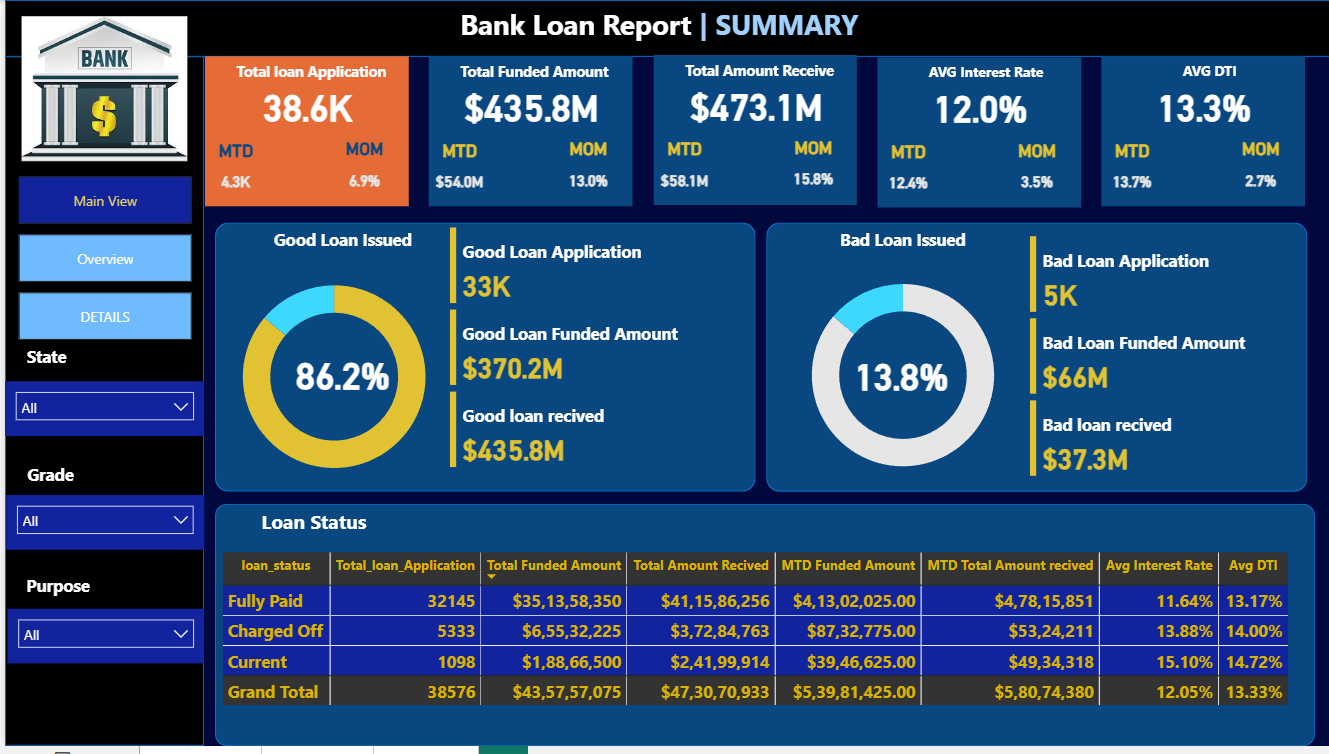

The dashboard page shown, as its layout file describes it:
{"tool":"powerbi","page":{"name":"Main View","canvas":[1280,720],"ordinal":0},"visuals":[{"type":"shape","box":[0,0,1280.3,54.9],"z":0},{"type":"shape","box":[625.8,53.6,196.3,145.1],"z":0,"group":"g3"},{"type":"shape","box":[192.6,54.2,196.7,145.1],"z":0,"group":"g1"},{"type":"shape","box":[409.2,54.2,196.7,145.1],"z":0,"group":"g2"},{"type":"shape","box":[1058.3,54.9,196.7,145.1],"z":0,"group":"g5"},{"type":"shape","box":[842.1,56.1,196.7,145.1],"z":0,"group":"g4"},{"type":"shape","box":[0,54.9,192.1,665.5],"z":1000},{"type":"card","fields":{"Values":["AMeasures.Total Amount Recived"]},"box":[640.7,69.9,169.2,63.7],"z":1000,"group":"g3"},{"type":"card","fields":{"Values":["AMeasures.Total_loan_Application"]},"box":[207.5,70.5,169.5,63.7],"z":1000,"group":"g1"},{"type":"card","fields":{"Values":["AMeasures.Total Funded Amount"]},"box":[424.1,70.5,169.5,63.7],"z":1000,"group":"g2"},{"type":"card","fields":{"Values":["AMeasures.Avg DTI"]},"box":[1073.2,71.2,169.5,63.7],"z":1000,"group":"g5"},{"type":"card","fields":{"Values":["AMeasures.Avg Interest Rate"]},"box":[857,72.4,169.5,63.7],"z":1000,"group":"g4"},{"type":"textbox","box":[651.5,53.6,158.4,32.5],"z":2000,"group":"g3"},{"type":"textbox","box":[218.4,54.2,158.7,32.5],"z":2000,"group":"g1"},{"type":"textbox","box":[435,54.2,158.7,32.5],"z":2000,"group":"g2"},{"type":"textbox","box":[1084.1,54.9,158.7,32.5],"z":2000,"group":"g5"},{"type":"textbox","box":[867.9,56.1,158.7,32.5],"z":2000,"group":"g4"},{"type":"shape","box":[735.2,214.3,522.3,259.7],"z":2000},{"type":"card","title":"MTD","fields":{"Values":["AMeasures.MTD Total Amount recived"]},"box":[625.8,135,59.6,63.7],"z":3000,"group":"g3"},{"type":"card","title":"MTD","fields":{"Values":["AMeasures.MTD Loan Application"]},"box":[192.6,135.6,59.7,63.7],"z":3000,"group":"g1"},{"type":"card","title":"MTD","fields":{"Values":["AMeasures.MTD Funded Amount"]},"box":[409.2,135.6,59.7,63.7],"z":3000,"group":"g2"},{"type":"card","title":"MTD","fields":{"Values":["AMeasures.MTD Avg DTI"]},"box":[1058.3,136.3,59.7,63.7],"z":3000,"group":"g5"},{"type":"card","title":"MTD","fields":{"Values":["AMeasures.MTD Avg Int Rate"]},"box":[842.1,137.5,59.7,63.7],"z":3000,"group":"g4"},{"type":"card","fields":{"Values":["AMeasures.Bad Loan %"]},"box":[780.7,329.3,168.9,63.9],"z":3000},{"type":"card","title":"MOM","fields":{"Values":["AMeasures.MOM Total Amount recived"]},"box":[750.4,133.6,59.6,63.7],"z":4000,"group":"g3"},{"type":"card","title":"MOM","fields":{"Values":["AMeasures.MOM Loan Application"]},"box":[317.4,134.2,59.7,63.7],"z":4000,"group":"g1"},{"type":"card","title":"MOM","fields":{"Values":["AMeasures.MOM Total Funded Amount"]},"box":[534,134.2,59.7,63.7],"z":4000,"group":"g2"},{"type":"card","title":"MOM","fields":{"Values":["AMeasures.MOM Avg DTI"]},"box":[1183.1,134.9,59.7,63.7],"z":4000,"group":"g5"},{"type":"card","title":"MOM","fields":{"Values":["AMeasures.MOM Avg int Rate"]},"box":[966.9,136.1,59.7,63.7],"z":4000,"group":"g4"},{"type":"shape","box":[202.4,214.6,521.9,259.7],"z":4000},{"type":"textbox","box":[228.5,214.3,195.9,32.6],"z":5000},{"type":"card","fields":{"Values":["AMeasures.Good Loan %"]},"box":[241.4,328,169.5,64.6],"z":6000},{"type":"donutChart","fields":{"Category":["Bank loan.GOOD VS BAD LOAB"],"Y":["AMeasures.Total_loan_Application"]},"box":[193,248.5,249.7,230.4],"z":7000},{"type":"textbox","box":[434,0,412.3,67.8],"z":8000},{"type":"group","id":"g1","title":"Group 1","box":[192.6,54.2,196.7,145.1],"z":9000},{"type":"group","id":"g2","title":"Group 1","box":[409.2,54.2,196.7,145.1],"z":10000},{"type":"group","id":"g3","title":"Group 1","box":[625.8,53.6,196.3,145.1],"z":11000},{"type":"group","id":"g4","title":"Group 1","box":[842.1,56.1,196.3,145.1],"z":12000},{"type":"group","id":"g5","title":"Group 1","box":[1058.3,54.9,196.3,145.1],"z":13000},{"type":"cardVisual","fields":{"Data":["AMeasures.Good Loan Application","AMeasures.Good Loan Funded Amount","AMeasures.Good loan recived"]},"box":[424.7,214.7,290.8,243.7],"z":14000},{"type":"donutChart","fields":{"Category":["Bank loan.GOOD VS BAD LOAB"],"Y":["AMeasures.Total_loan_Application"]},"box":[742.3,247,249.8,229.9],"z":15000},{"type":"textbox","box":[748,214.3,237,32.6],"z":16000},{"type":"cardVisual","fields":{"Data":["AMeasures.Bad Loan Application","AMeasures.Bad Loan Funded Amount","AMeasures.Bad loan recived"]},"box":[984.5,223.2,290.8,243.7],"z":17000},{"type":"shape","box":[202.7,486.2,1061.7,234],"z":18000},{"type":"tableEx","fields":{"Values":["Bank loan.loan_status","AMeasures.Total_loan_Application","AMeasures.Total Funded Amount","AMeasures.Total Amount Recived","AMeasures.MTD Funded Amount","AMeasures.MTD Total Amount recived","AMeasures.Avg Interest Rate","AMeasures.Avg DTI"]},"box":[203.4,528,1048.7,172.7],"z":19000},{"type":"textbox","box":[203.4,486.4,188.7,41.7],"z":20000},{"type":"slicer","fields":{"Values":["Bank loan.address_state"]},"box":[0,367.5,192.3,52.7],"z":21000},{"type":"textbox","box":[1.2,328.3,73.5,36.8],"z":22000},{"type":"slicer","fields":{"Values":["Bank loan.grade"]},"box":[1.2,477.8,191.1,52.7],"z":23000},{"type":"textbox","box":[1.2,441,80.9,36.8],"z":24000},{"type":"slicer","fields":{"Values":["Bank loan.purpose"]},"box":[2.5,588.1,189.9,52.7],"z":25000},{"type":"textbox","box":[2.5,548.9,93.1,39.2],"z":26000},{"type":"image","box":[0,11.4,191.4,150],"z":27000},{"type":"pageNavigator","box":[12.9,170,167.1,160],"z":28000}]}

Visuals, with their boxes in screenshot pixels (x1, y1, x2, y2), scaled from the page's 1280x720 canvas onto the 1329x754 screenshot:
shape: box(0, 0, 1328, 57)
shape: box(650, 56, 854, 208)
shape: box(200, 57, 404, 209)
shape: box(425, 57, 629, 209)
shape: box(1099, 57, 1303, 209)
shape: box(874, 59, 1079, 211)
shape: box(0, 57, 199, 753)
card - AMeasures.Total Amount Recived: box(665, 73, 841, 140)
card - AMeasures.Total_loan_Application: box(215, 74, 391, 141)
card - AMeasures.Total Funded Amount: box(440, 74, 616, 141)
card - AMeasures.Avg DTI: box(1114, 75, 1290, 141)
card - AMeasures.Avg Interest Rate: box(890, 76, 1066, 143)
textbox: box(676, 56, 841, 90)
textbox: box(227, 57, 392, 91)
textbox: box(452, 57, 616, 91)
textbox: box(1126, 57, 1290, 92)
textbox: box(901, 59, 1066, 93)
shape: box(763, 224, 1306, 496)
"MTD" card: box(650, 141, 712, 208)
"MTD" card: box(200, 142, 262, 209)
"MTD" card: box(425, 142, 487, 209)
"MTD" card: box(1099, 143, 1161, 209)
"MTD" card: box(874, 144, 936, 211)
card - AMeasures.Bad Loan %: box(811, 345, 986, 412)
"MOM" card: box(779, 140, 841, 207)
"MOM" card: box(330, 141, 392, 207)
"MOM" card: box(554, 141, 616, 207)
"MOM" card: box(1228, 141, 1290, 208)
"MOM" card: box(1004, 143, 1066, 209)
shape: box(210, 225, 752, 497)
textbox: box(237, 224, 441, 259)
card - AMeasures.Good Loan %: box(251, 343, 427, 411)
donutChart - Bank loan.GOOD VS BAD LOAB x AMeasures.Total_loan_Application: box(200, 260, 460, 502)
textbox: box(451, 0, 879, 71)
"Group 1" group: box(200, 57, 404, 209)
"Group 1" group: box(425, 57, 629, 209)
"Group 1" group: box(650, 56, 854, 208)
"Group 1" group: box(874, 59, 1078, 211)
"Group 1" group: box(1099, 57, 1303, 209)
cardVisual - AMeasures.Good Loan Application x AMeasures.Good Loan Funded Amount: box(441, 225, 743, 480)
donutChart - Bank loan.GOOD VS BAD LOAB x AMeasures.Total_loan_Application: box(771, 259, 1030, 499)
textbox: box(777, 224, 1023, 259)
cardVisual - AMeasures.Bad Loan Application x AMeasures.Bad Loan Funded Amount: box(1022, 234, 1324, 489)
shape: box(210, 509, 1313, 753)
tableEx - Bank loan.loan_status x AMeasures.Total_loan_Application: box(211, 553, 1300, 734)
textbox: box(211, 509, 407, 553)
slicer - Bank loan.address_state: box(0, 385, 200, 440)
textbox: box(1, 344, 78, 382)
slicer - Bank loan.grade: box(1, 500, 200, 556)
textbox: box(1, 462, 85, 500)
slicer - Bank loan.purpose: box(3, 616, 200, 671)
textbox: box(3, 575, 99, 616)
image: box(0, 12, 199, 169)
pageNavigator: box(13, 178, 187, 346)
